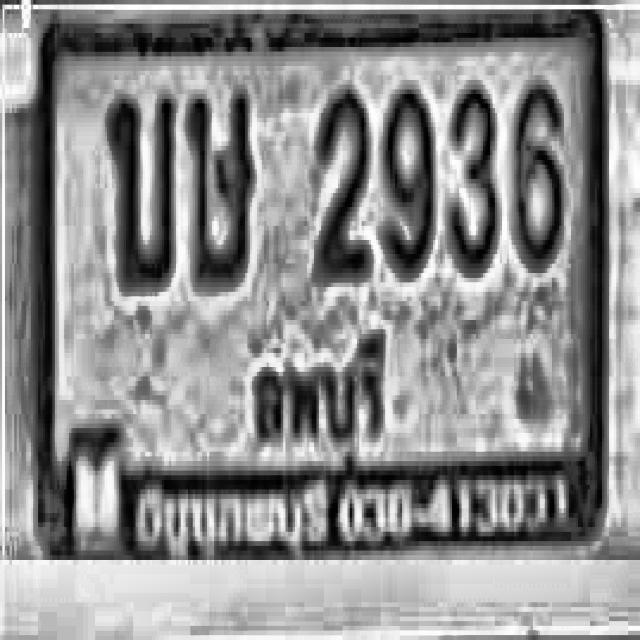license-plate: (35, 7, 613, 554)
